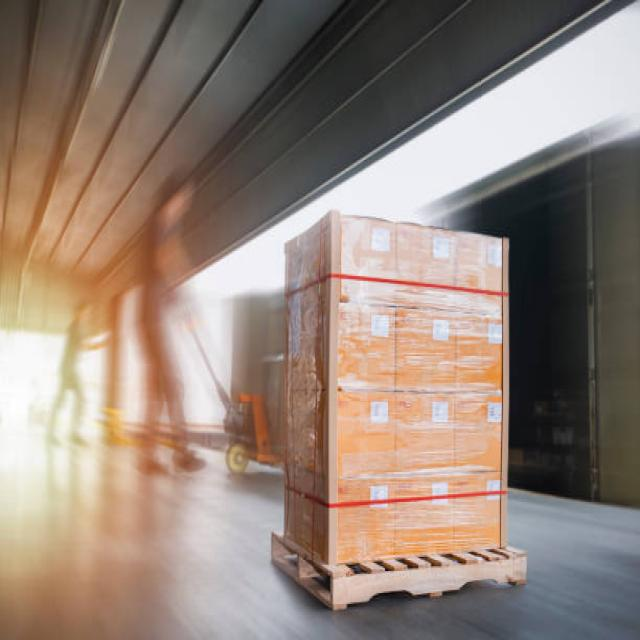Wooden-Pallets: (271, 529, 533, 610)
